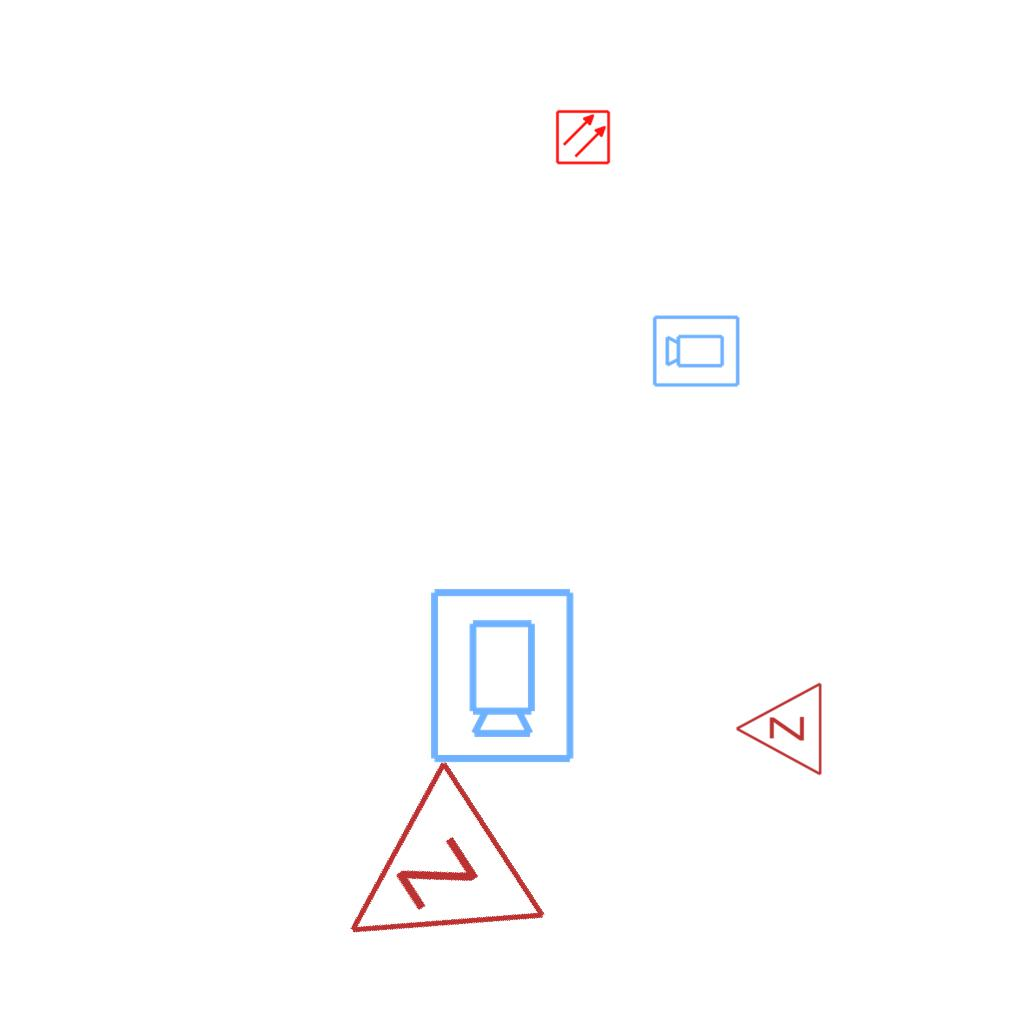KFO_Kamera_mit_Festobjektiv: (424, 584, 578, 766), (651, 312, 742, 389)
RMO_Rauchmelder_optischer: (555, 109, 611, 165)
Zimmersignalleuchte: (287, 749, 563, 1023), (729, 681, 829, 779)
